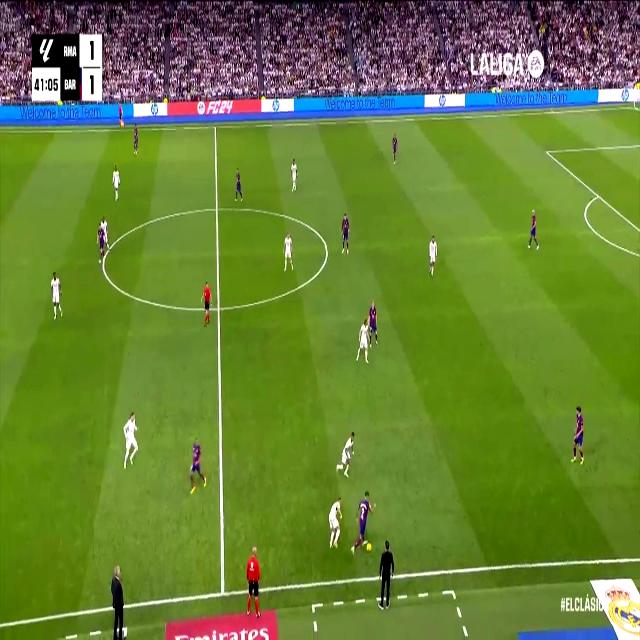bigarea_top_inner: (544, 145, 550, 158)
corner: (630, 102, 638, 111)
halfcircle_bottom: (214, 295, 224, 320)
halfcircle_top: (211, 196, 223, 220)
midline_bottom_intersection: (216, 578, 230, 604)
midline_top_intersection: (212, 119, 219, 134)
top_arc_area_intersection: (594, 188, 602, 202)
